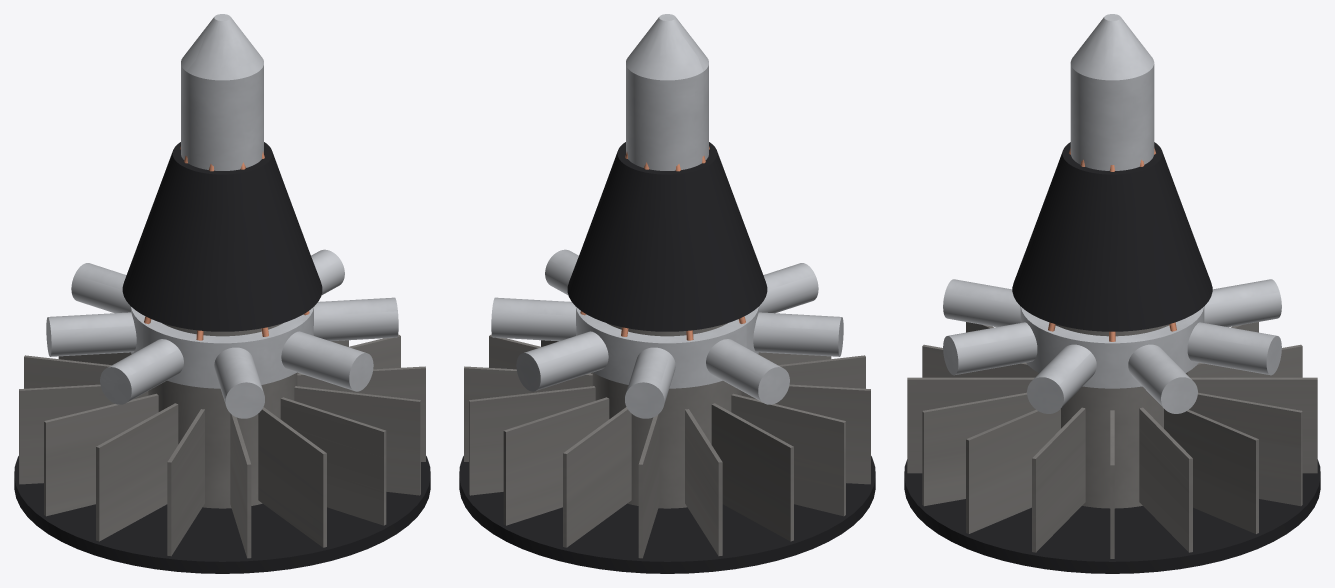
File: power06_kilopower.glb
3 renders of one model, left to right at view 1: azimuth 30°, elevation 25°; view 2: azimuth 150°, elevation 25°; view 3: azimuth 270°, elevation 25°, orthographic.
Visible parts, largest first — view 1: radiator_fins, shadow_shield, stirling_converters, base_ring, reactor_vessel, central_column, hot_collar; view 2: radiator_fins, shadow_shield, stirling_converters, base_ring, reactor_vessel, central_column, hot_collar; view 3: radiator_fins, shadow_shield, stirling_converters, base_ring, reactor_vessel, central_column, hot_collar.
Part boxes in pixels (x1,y1,x2,y2): radiator_fins: [19, 334, 425, 558]; shadow_shield: [122, 142, 322, 331]; stirling_converters: [46, 249, 398, 418]; base_ring: [14, 456, 430, 573]; reactor_vessel: [181, 14, 263, 170]; central_column: [148, 323, 297, 508]; hot_collar: [131, 307, 313, 388]; radiator_fins: [464, 334, 870, 558]; shadow_shield: [567, 142, 767, 331]; stirling_converters: [491, 249, 843, 418]; base_ring: [459, 456, 875, 573]; reactor_vessel: [626, 14, 708, 170]; central_column: [592, 323, 741, 508]; hot_collar: [576, 307, 758, 388]; radiator_fins: [907, 322, 1317, 558]; shadow_shield: [1012, 142, 1212, 331]; stirling_converters: [943, 279, 1281, 413]; base_ring: [904, 459, 1320, 573]; reactor_vessel: [1070, 14, 1154, 170]; central_column: [1037, 324, 1187, 508]; hot_collar: [1020, 307, 1204, 388].
Bounding box in the file's own units: 2.5 × 3.1 × 2.5.
Materials: 4 (3 with a texture image).
